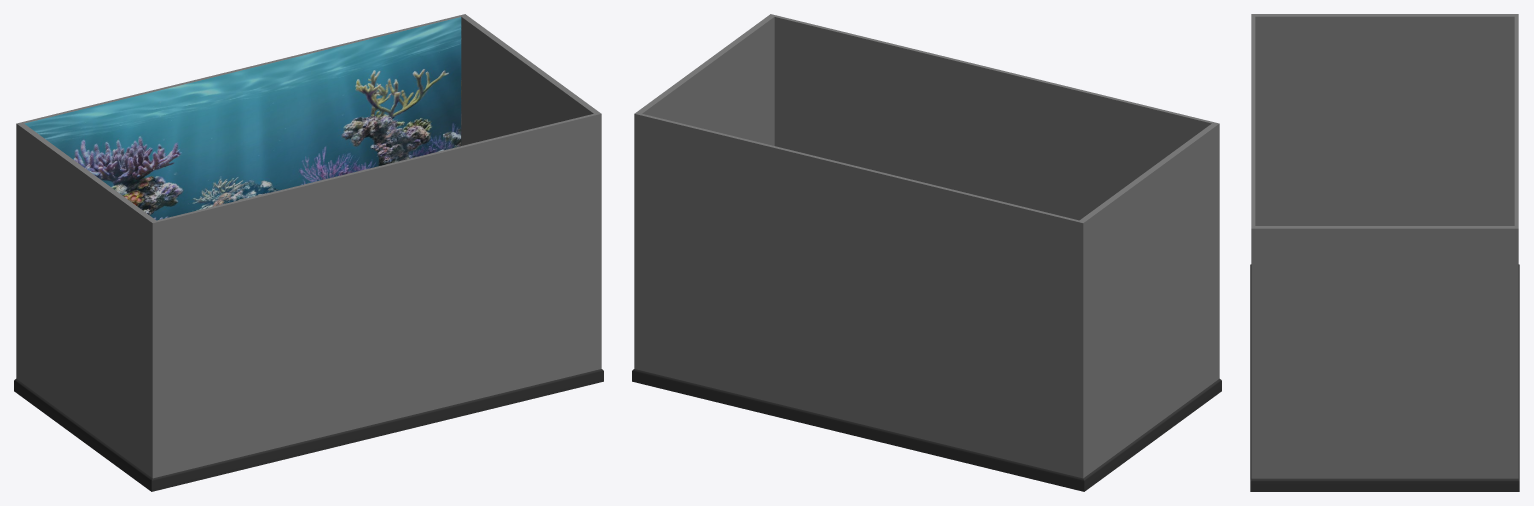
Rendered from Pecera6.obj.
3 views of the same model, side by side, from view 1: azimuth 30°, elevation 25°; view 2: azimuth 150°, elevation 25°; view 3: azimuth 270°, elevation 25° (orthographic). The views are drawn at different scales.
Visible parts, largest first — view 1: Pecera4:pCube13; view 2: Pecera4:pCube13; view 3: Pecera4:pCube13.
Part boxes in pixels (x1,y1,x2,y2): Pecera4:pCube13: (14,14,603,491); Pecera4:pCube13: (632,14,1221,491); Pecera4:pCube13: (1250,14,1519,491).
Bounding box in the file's own units: 172 × 97.34 × 90.59.
4 materials, 2 textured.
